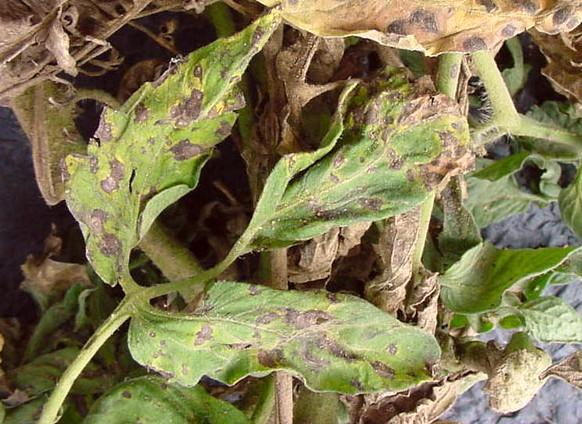Tomato leaf late blight: (59, 5, 287, 292), (242, 82, 464, 255), (123, 281, 450, 391)
